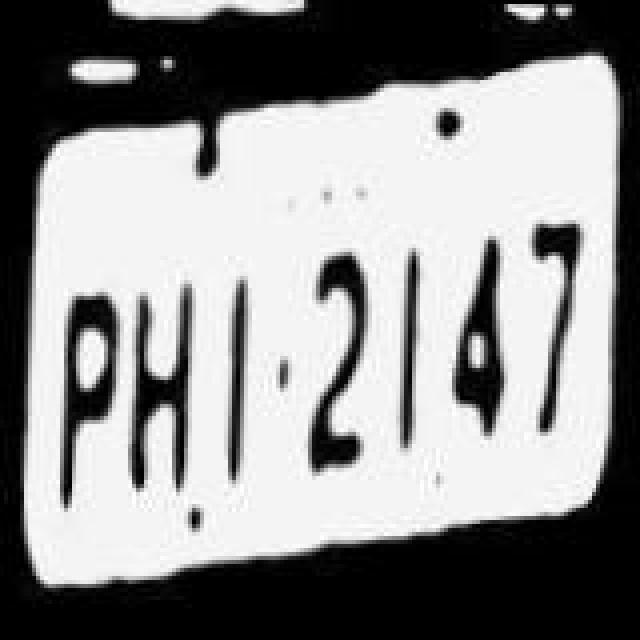1: (380, 220, 432, 472), (200, 260, 256, 488)
2: (286, 232, 378, 492)
4: (442, 222, 514, 474)
7: (510, 206, 590, 458)
H: (124, 262, 204, 494)
P: (44, 260, 124, 508)
